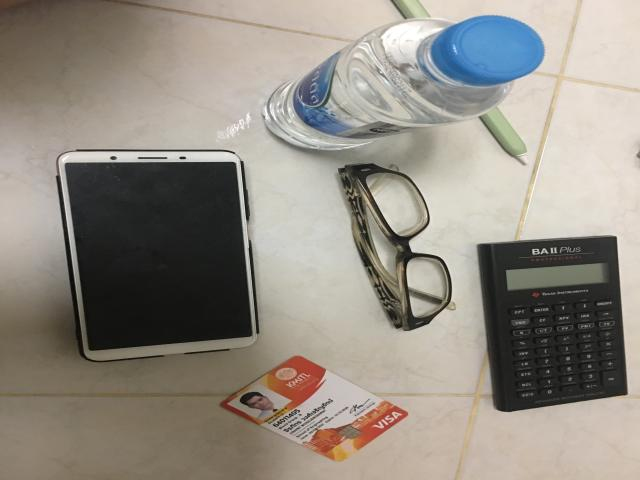Glasses: (338, 163, 455, 331)
Mobile phone: (57, 150, 258, 362)
bottle: (263, 15, 545, 150)
